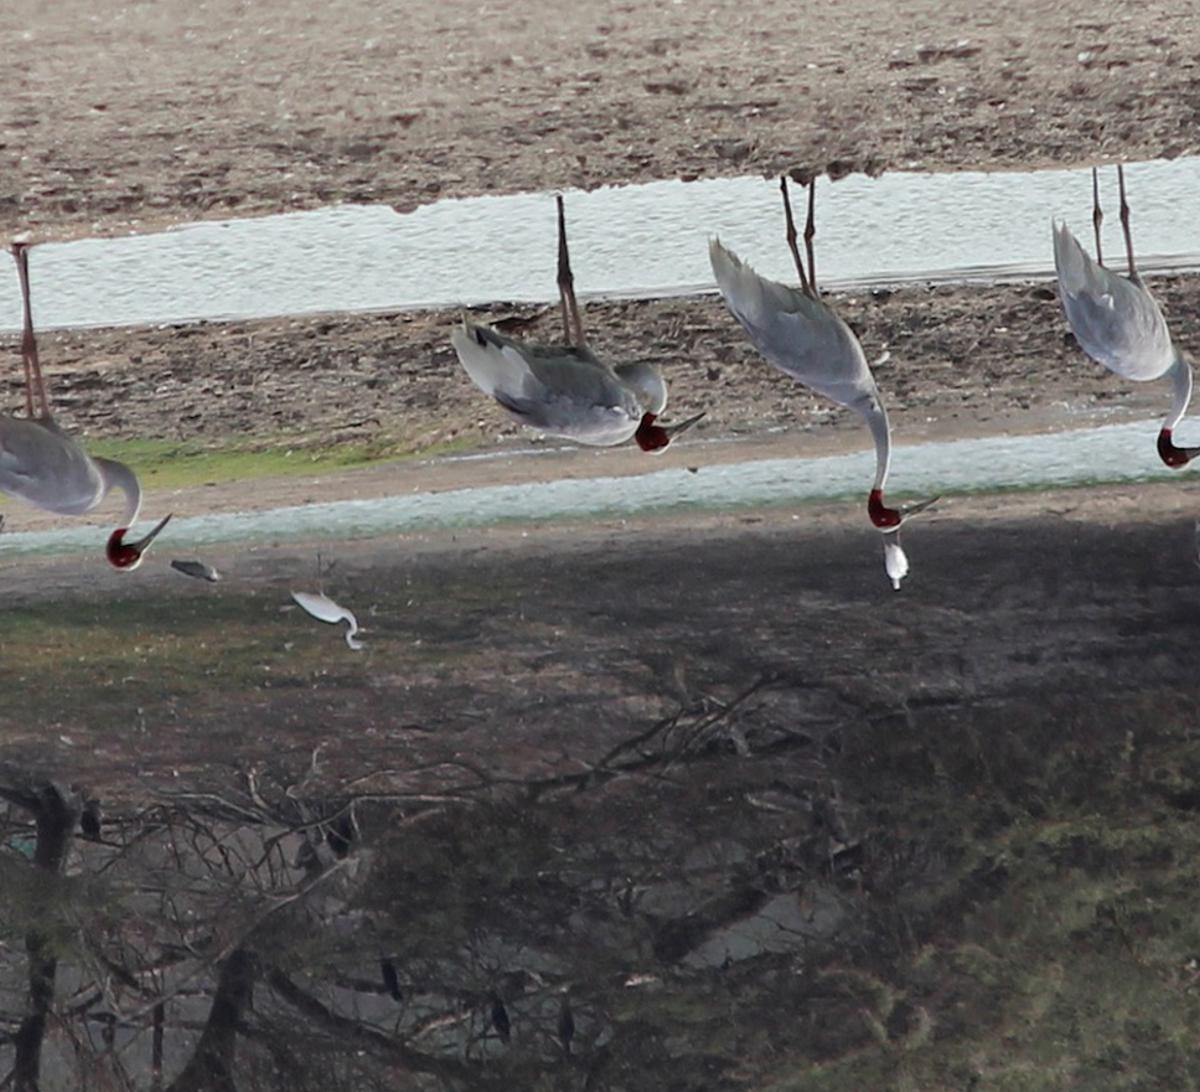crane: (700, 157, 957, 544), (443, 190, 699, 477), (1, 226, 186, 587), (1044, 147, 1200, 483)
